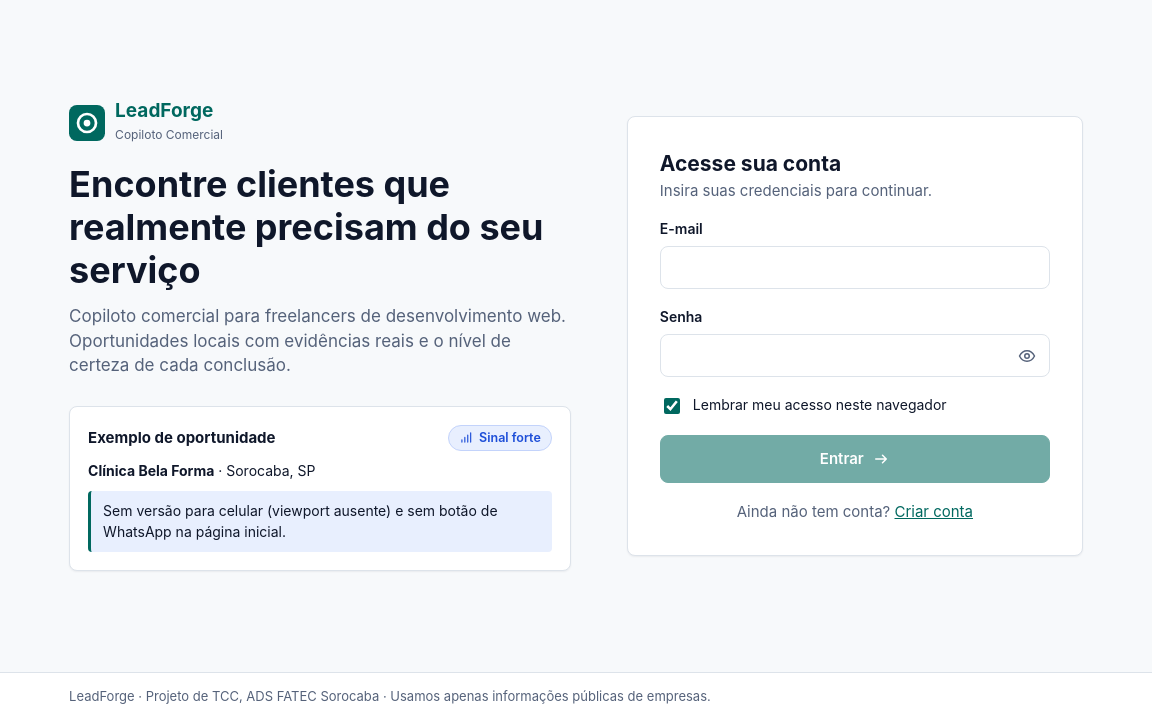
Test: tela Entrar › entra com credenciais corretas e vai para as oportunidades
Type "lucas@exemplo.com" into the field labelled "E-mail" at (855, 268), box left=660, top=246, right=1050, bottom=290
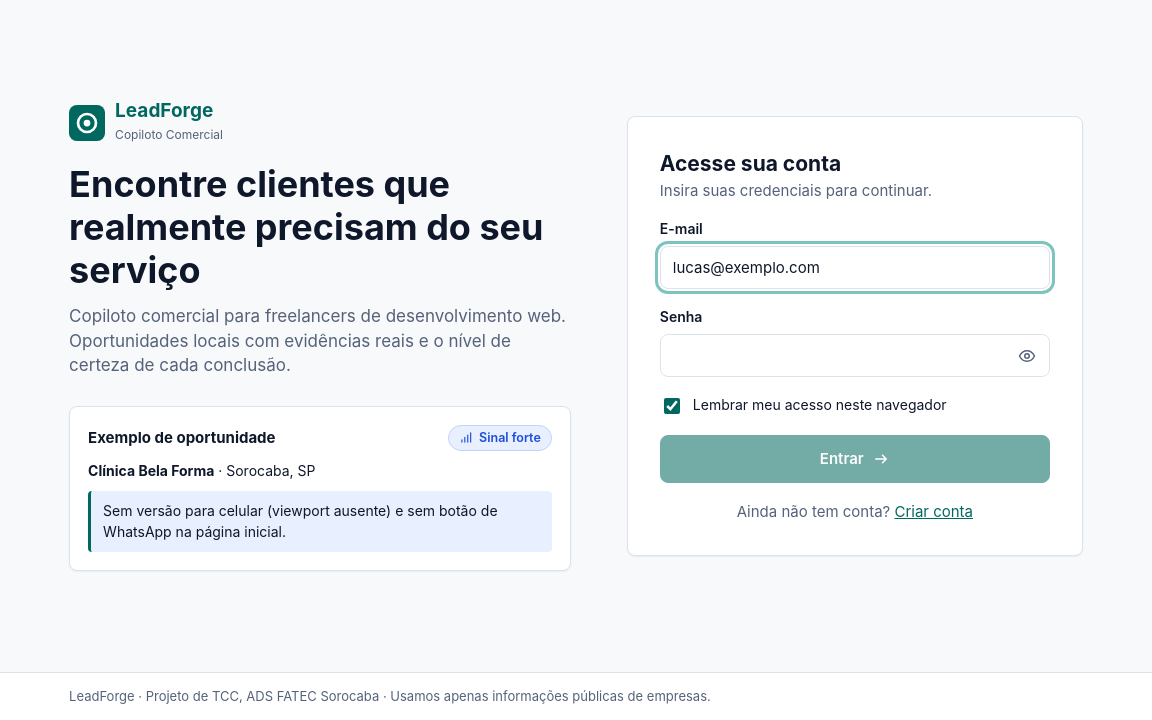
Type "senha-forte-1" into the password field labelled "Senha" at (855, 356), box left=660, top=334, right=1050, bottom=378
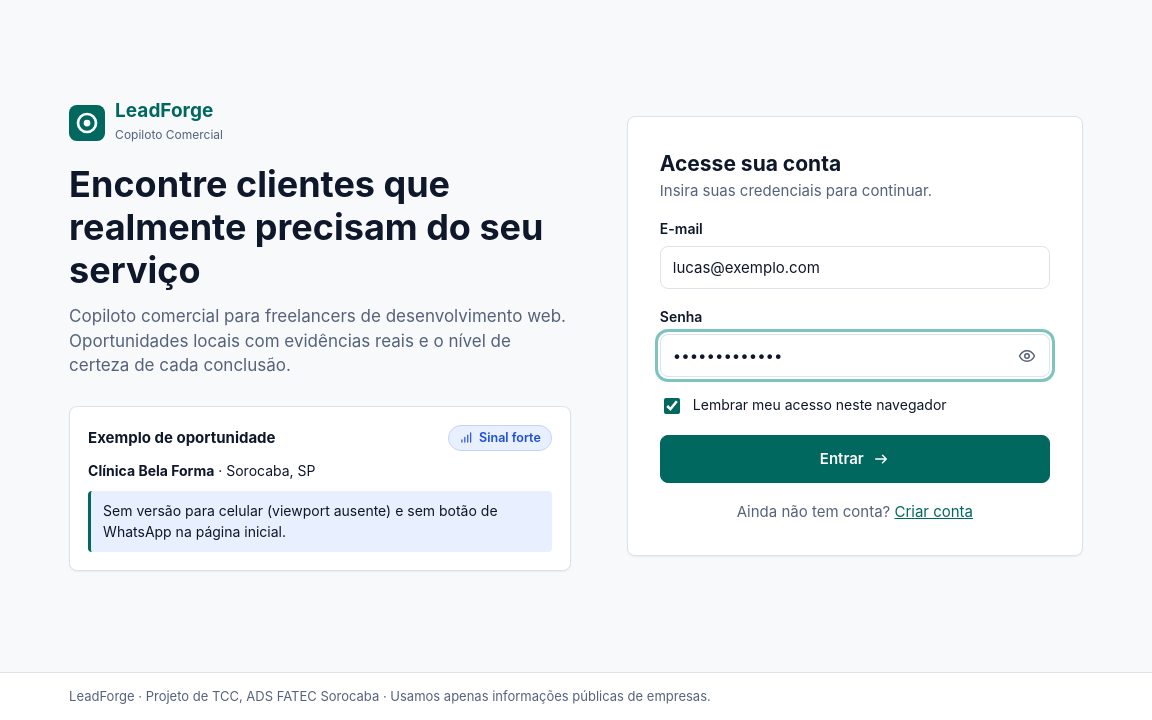
Click the button "Entrar" at (855, 459), box left=660, top=436, right=1050, bottom=483
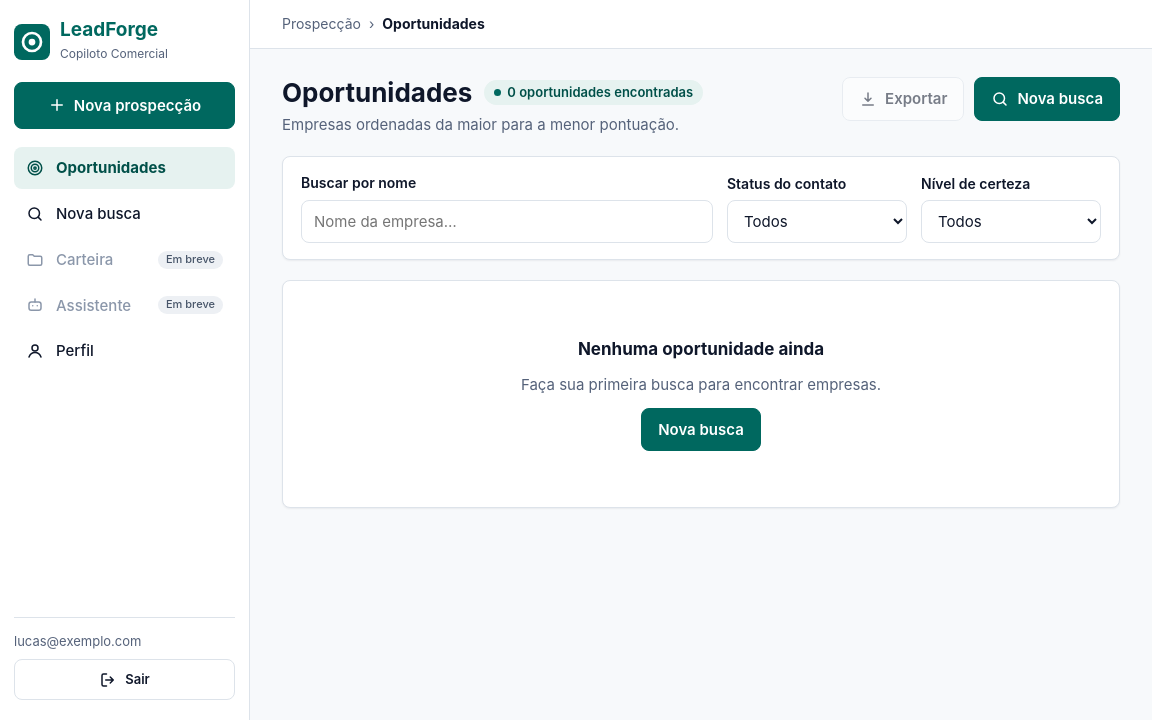
Check: the heading "Oportunidades" is shown, box left=282, top=77, right=472, bottom=108
